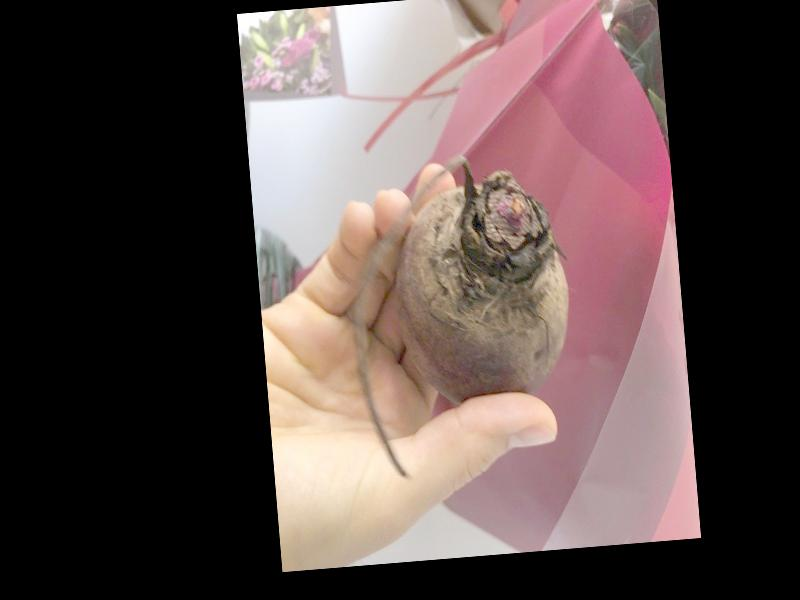Beet: (342, 145, 582, 482)
